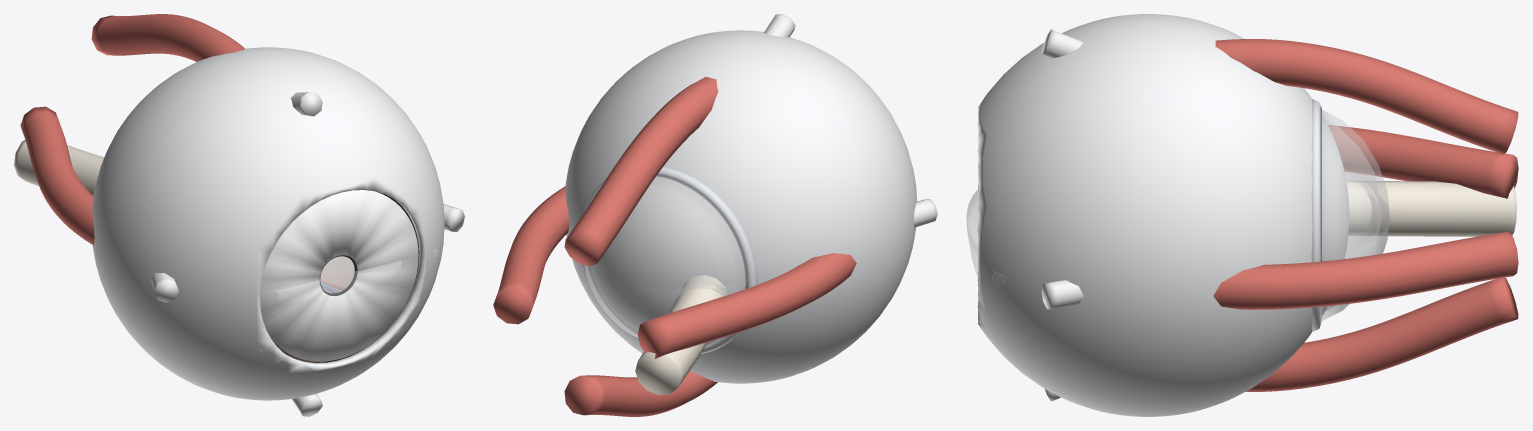
File: human-eye.glb
3 views of the same model, side by side, from view 1: azimuth 30°, elevation 25°; view 2: azimuth 150°, elevation 25°; view 3: azimuth 270°, elevation 25° (orthographic). The views are drawn at different scales.
Visible parts, largest first — view 1: human-eye-sclera-full, human-eye-iris, human-eye-vitreous, human-eye-Superior-Rectus-belly, human-eye-Medial-Rectus-belly, human-eye-optic-nerve, human-eye-lens, human-eye-lens.001, human-eye-retina-section, human-eye-sclera-section, human-eye-Superior-Rectus-tendon, human-eye-Medial-Rectus-tendon (+3 smaller); view 2: human-eye-sclera-full, human-eye-cornea, human-eye-Superior-Rectus-belly, human-eye-Medial-Rectus-belly, human-eye-Lateral-Rectus-belly, human-eye-Inferior-Rectus-belly, human-eye-cornea.001, human-eye-optic-nerve, human-eye-limbus, human-eye-Medial-Rectus-tendon, human-eye-Superior-Rectus-tendon; view 3: human-eye-sclera-full, human-eye-Lateral-Rectus-belly, human-eye-Superior-Rectus-belly, human-eye-Inferior-Rectus-belly, human-eye-optic-nerve, human-eye-cornea, human-eye-Medial-Rectus-belly, human-eye-limbus, human-eye-Lateral-Rectus-tendon, human-eye-cornea.001, human-eye-Superior-Rectus-tendon, human-eye-vitreous.
Part boxes in pixels (x1,y1,x2,y2): human-eye-sclera-full: (92,47,444,400); human-eye-iris: (260,190,418,361); human-eye-vitreous: (276,261,401,342); human-eye-Superior-Rectus-belly: (91,14,245,61); human-eye-Medial-Rectus-belly: (20,106,94,245); human-eye-optic-nerve: (14,140,104,195); human-eye-lens: (320,256,354,292); human-eye-lens.001: (321,257,353,292); human-eye-retina-section: (321,257,353,292); human-eye-sclera-section: (257,247,437,373); human-eye-Superior-Rectus-tendon: (291,92,322,116); human-eye-Medial-Rectus-tendon: (151,273,178,302); human-eye-sclera-full: (565,30,916,383); human-eye-cornea: (584,176,745,344); human-eye-Superior-Rectus-belly: (564,77,718,266); human-eye-Medial-Rectus-belly: (637,253,856,358); human-eye-Lateral-Rectus-belly: (493,186,569,324); human-eye-Inferior-Rectus-belly: (564,371,717,416); human-eye-cornea.001: (584,265,744,344); human-eye-optic-nerve: (635,275,727,394); human-eye-limbus: (582,166,757,353); human-eye-Medial-Rectus-tendon: (914,199,937,227); human-eye-Superior-Rectus-tendon: (764,14,795,37); human-eye-sclera-full: (977,14,1349,416); human-eye-Lateral-Rectus-belly: (1213,231,1518,309); human-eye-Superior-Rectus-belly: (1215,39,1518,154); human-eye-Inferior-Rectus-belly: (1245,277,1518,391); human-eye-optic-nerve: (1346,180,1516,236); human-eye-cornea: (1322,110,1389,320); human-eye-Medial-Rectus-belly: (1328,125,1518,198); human-eye-limbus: (1311,99,1321,331); human-eye-Lateral-Rectus-tendon: (1041,280,1083,309); human-eye-cornea.001: (1322,198,1389,320); human-eye-Superior-Rectus-tendon: (1041,29,1083,58); human-eye-vitreous: (966,189,978,277).
Bounding box in the file's own units: 0.0811 × 0.0811 × 0.1095.
